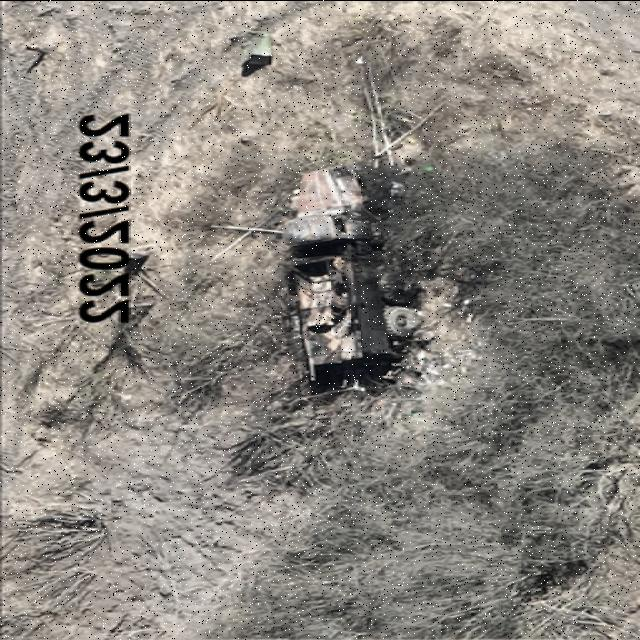TRUCK: (262, 162, 436, 372)
